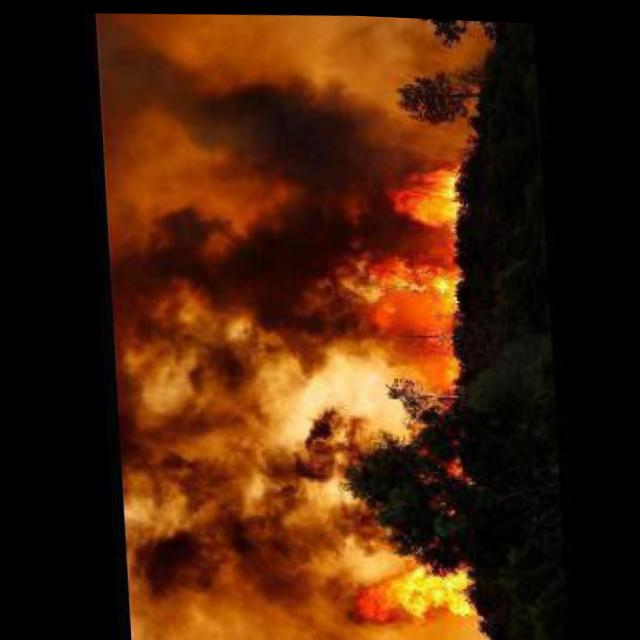Fire: (310, 141, 483, 632)
